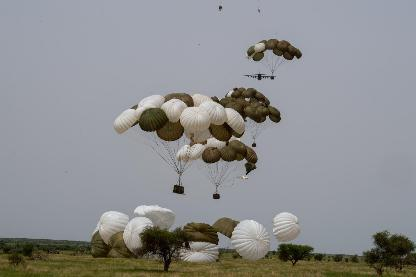Be200: (242, 68, 276, 80)
